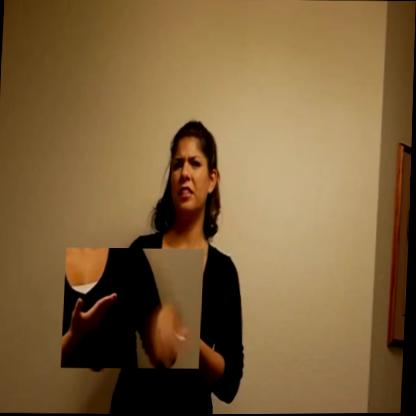Expensive: (62, 247, 205, 370)
